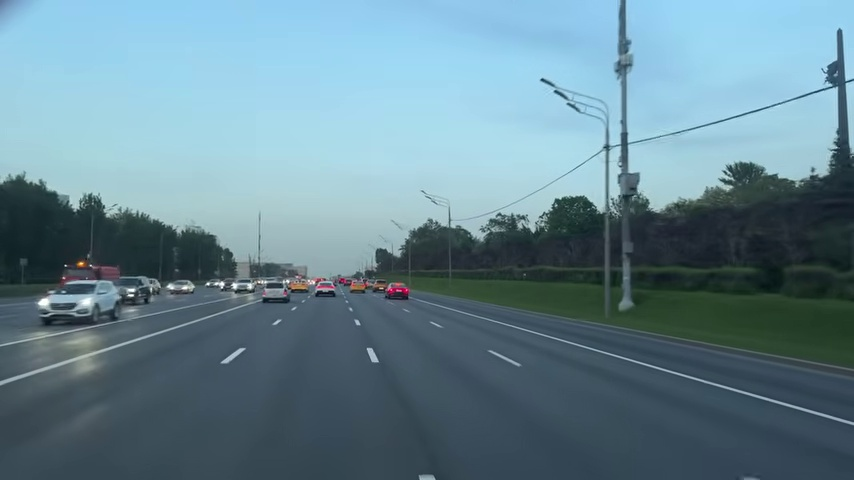apagada: (534, 73, 569, 107), (816, 66, 847, 98), (535, 74, 560, 99)
